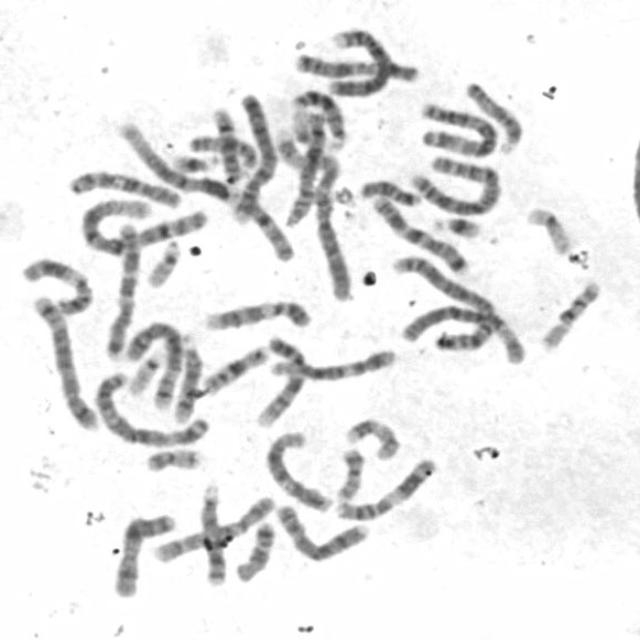A1: (108, 113, 295, 264), (75, 192, 209, 255)
A2: (387, 248, 501, 354), (404, 150, 504, 217)
A3: (88, 367, 213, 449), (415, 96, 499, 158)
B4: (227, 88, 279, 226), (320, 23, 394, 98)
B5: (26, 287, 101, 433), (121, 316, 185, 412)
C10: (148, 491, 276, 565), (63, 163, 184, 210)
C11: (332, 453, 441, 522), (18, 250, 97, 318)
C12: (258, 426, 336, 513), (263, 343, 399, 382)
C6: (395, 298, 530, 367), (308, 153, 356, 303)
C7: (368, 190, 474, 276), (99, 215, 146, 361)
C8: (272, 498, 374, 562), (285, 110, 334, 226)
C9: (252, 331, 311, 430), (199, 294, 315, 333)
D13: (288, 84, 350, 152), (196, 479, 229, 588)
D14: (170, 334, 206, 425), (206, 101, 245, 185)
D15: (459, 76, 528, 155), (183, 128, 261, 172)
E16: (536, 274, 604, 353), (196, 340, 272, 397)
E17: (341, 413, 404, 461), (273, 128, 335, 174)
E18: (229, 517, 277, 583), (354, 174, 423, 206)
F19: (520, 200, 575, 256), (288, 105, 315, 146)
F20: (330, 442, 368, 502), (140, 442, 206, 474)
G21: (428, 210, 484, 240), (168, 148, 220, 175)
G22: (141, 234, 184, 288), (124, 345, 166, 397)
X: (107, 506, 178, 600), (287, 48, 422, 84)
